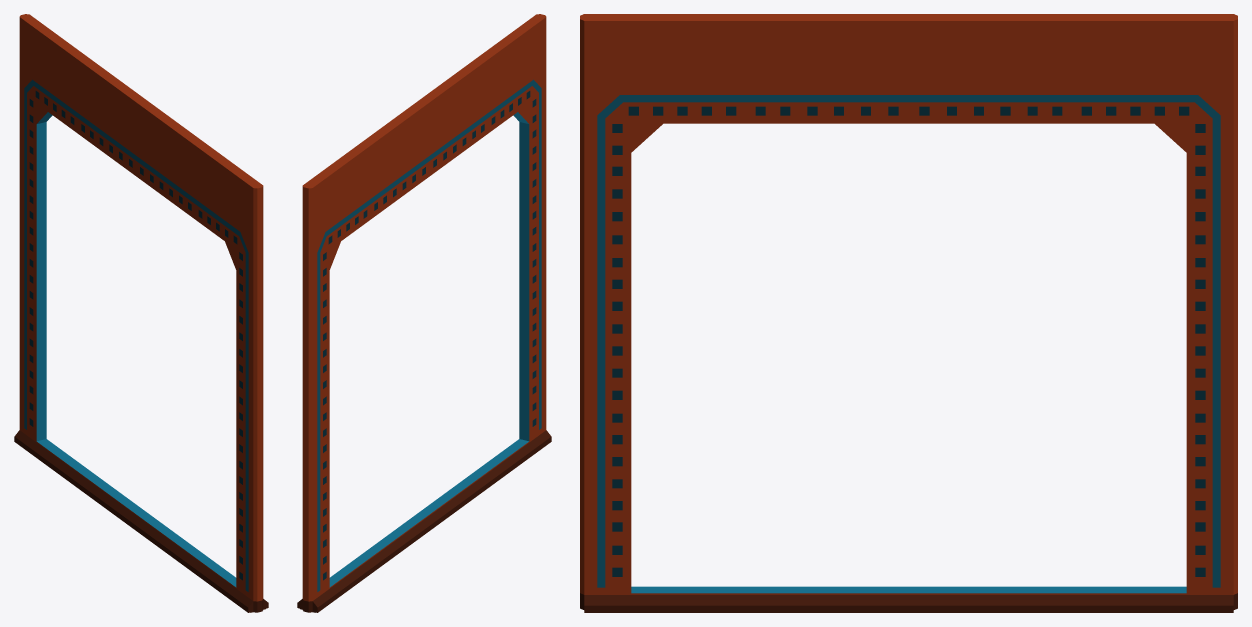
File: Wall_OpenDoor.fbx
3 views of the same model, side by side, from view 1: azimuth 30°, elevation 25°; view 2: azimuth 150°, elevation 25°; view 3: azimuth 270°, elevation 25° (orthographic). The views are drawn at different scales.
Visible parts, largest first — view 1: Wall_OpenDoor; view 2: Wall_OpenDoor; view 3: Wall_OpenDoor.
Boxes of the visible parts, bbox=[...] form: Wall_OpenDoor: bbox=[14, 14, 268, 612]; Wall_OpenDoor: bbox=[297, 14, 551, 612]; Wall_OpenDoor: bbox=[580, 14, 1237, 612].
Size of the model in its own units: 0.4 by 8.1 by 8.01.
